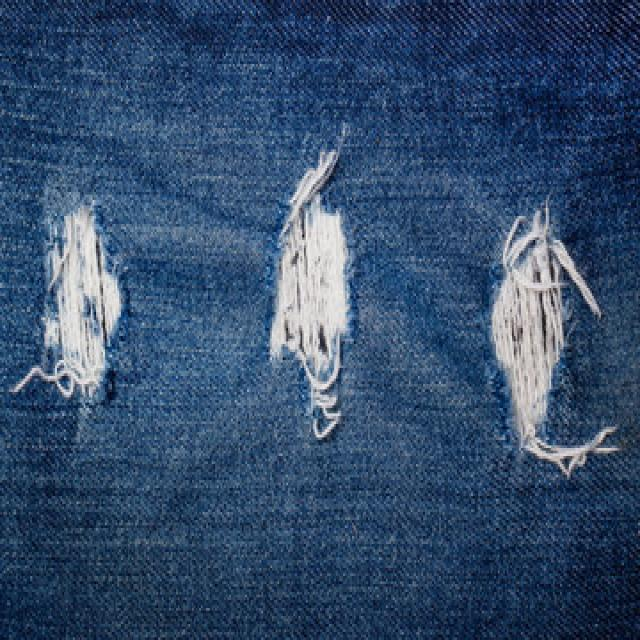Hole: (491, 207, 619, 478), (270, 194, 351, 440), (29, 201, 123, 404)
